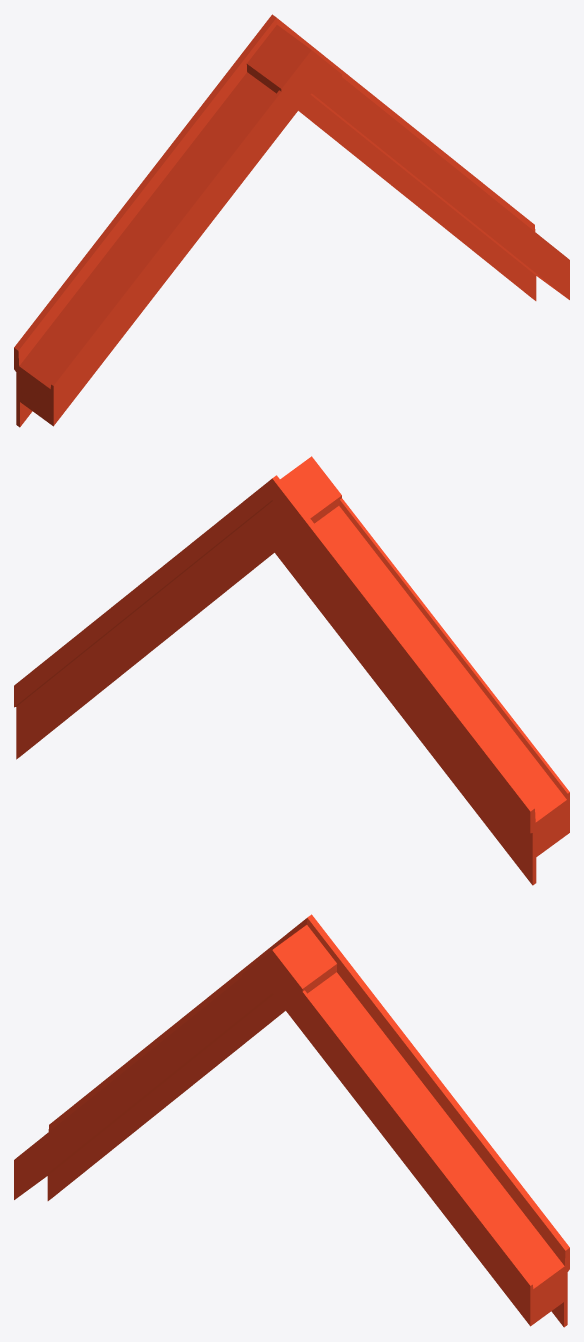
The model's file is roof-metal-regular-2m-front-center.fbx.
3 views of the same model, one above another, from view 1: azimuth 30°, elevation 25°; view 2: azimuth 150°, elevation 25°; view 3: azimuth 330°, elevation 25° (orthographic).
Visible parts, largest first — view 1: roof-metal-regular-2m-front-center; view 2: roof-metal-regular-2m-front-center; view 3: roof-metal-regular-2m-front-center.
Boxes of the visible parts, x1=… form: roof-metal-regular-2m-front-center: x1=14, y1=14, x2=569, y2=427; roof-metal-regular-2m-front-center: x1=14, y1=456, x2=569, y2=885; roof-metal-regular-2m-front-center: x1=14, y1=914, x2=569, y2=1327.
Size of the model in its own units: 4 by 2.56 by 0.53.
